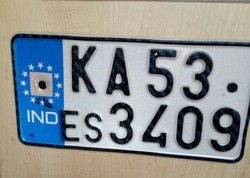number_plate: (9, 33, 249, 163)
